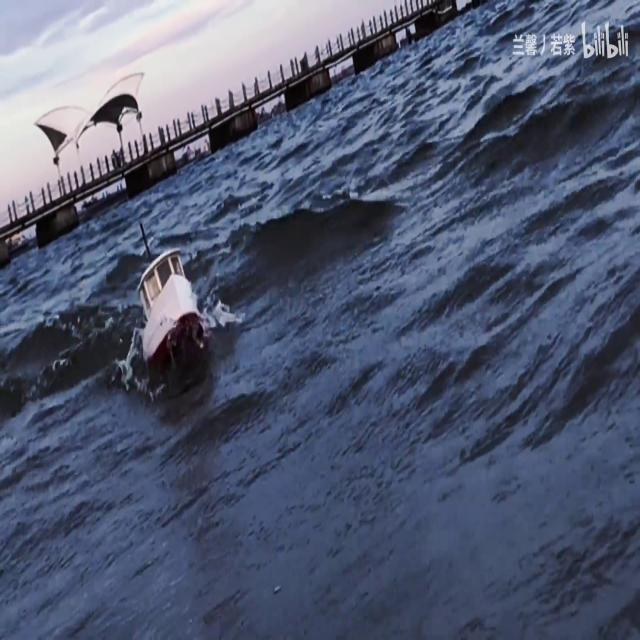houseboat: (136, 220, 210, 388)
